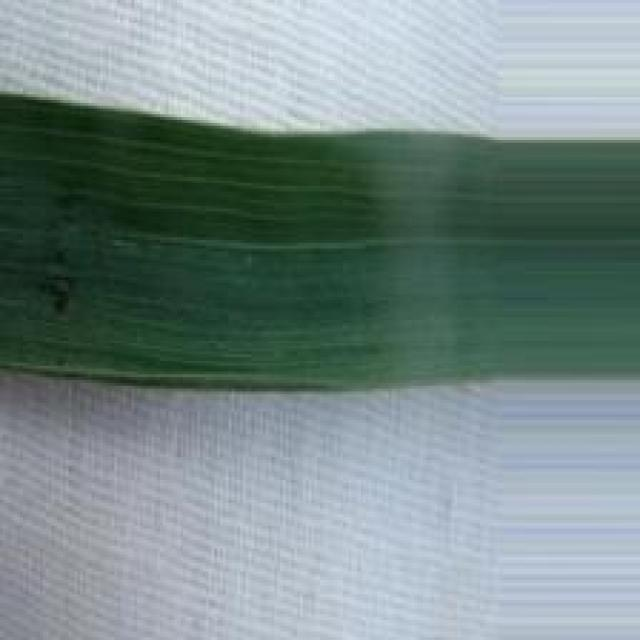Healthy: (2, 99, 640, 392)
